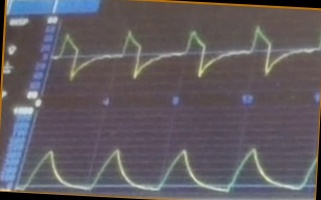Normal Flow: (53, 24, 319, 83)
Normal Volume: (16, 146, 317, 193)
